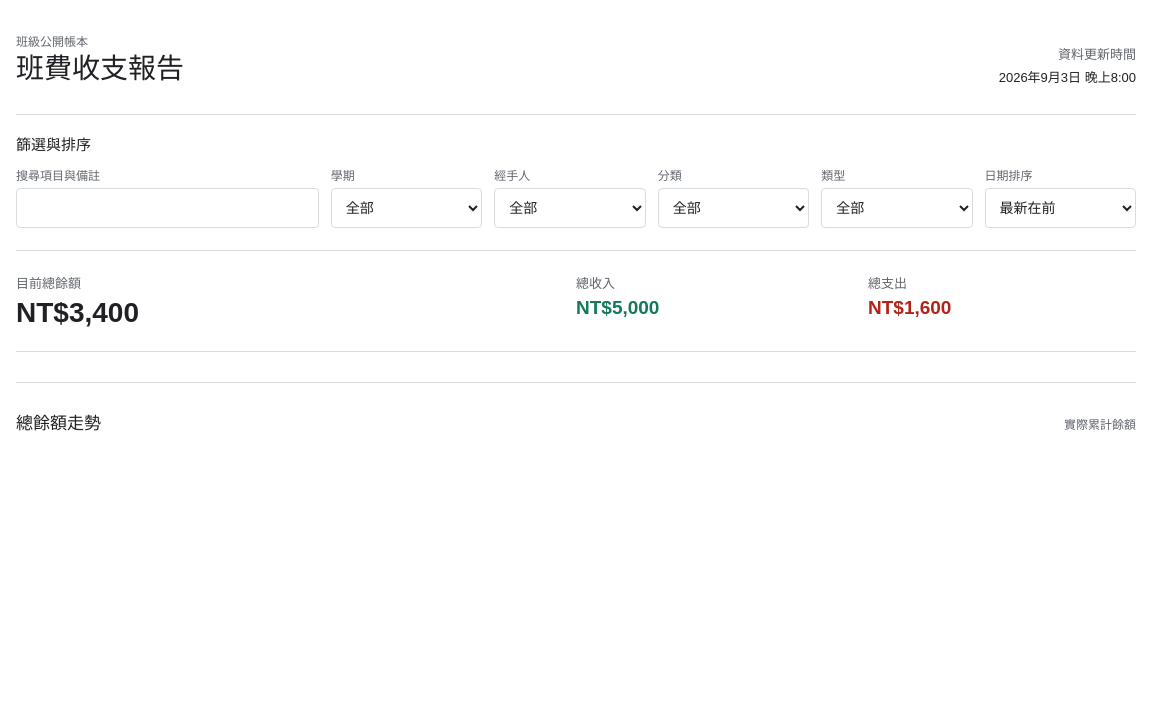
it: ReportApp › keeps public history visible for a locked semester
The image size is (1152, 720).
Select "第二學期" in the dropdown labelled "學期" at (406,208), box [331,188,482,228]
(page scrolled)
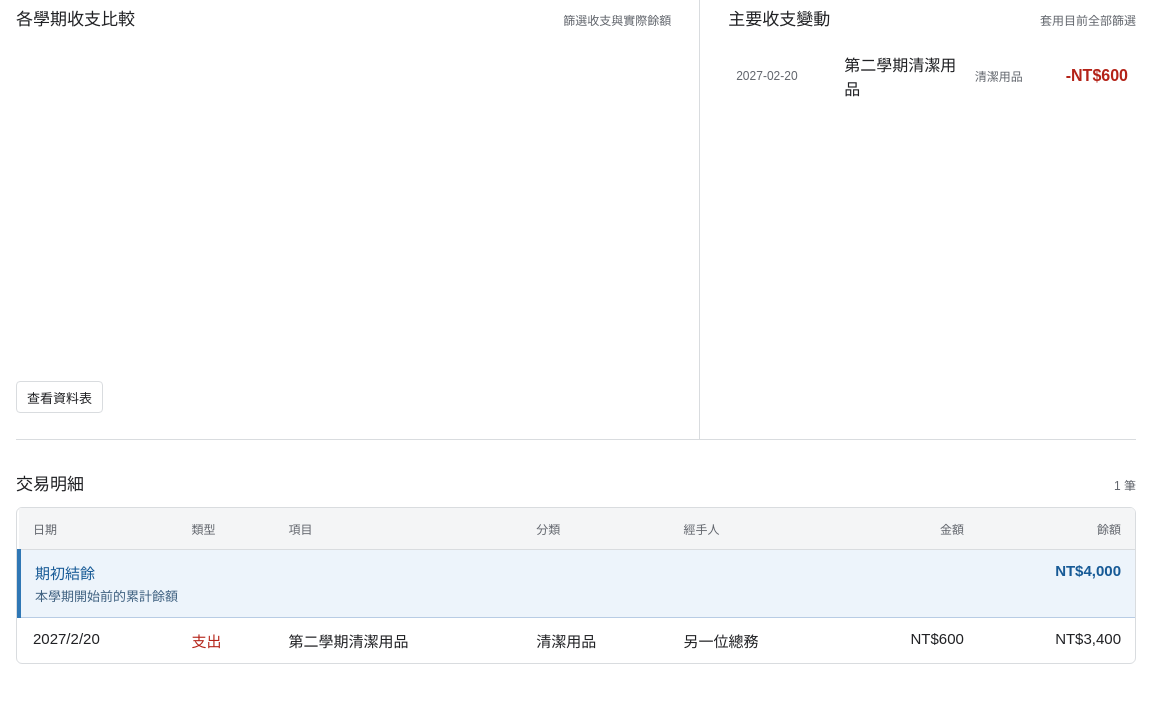
Expected: the text "第二學期清潔用品" in the row of "2027/2/20" is shown, [288,633,408,650]
Result: the row named "第二學期 期初結餘 NT$4,000" is shown at [19,550,1135,618]
